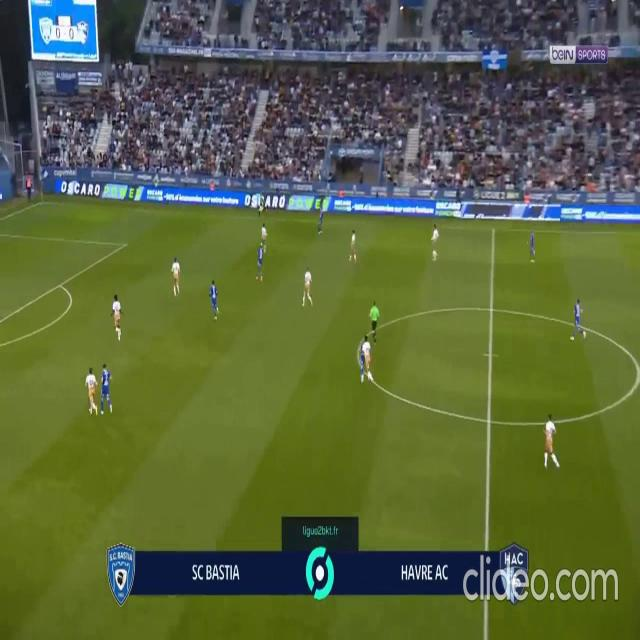ball: (432, 251, 437, 261)
player: (543, 414, 561, 471), (358, 334, 373, 382), (100, 360, 113, 413), (85, 368, 99, 414), (572, 298, 586, 342), (111, 294, 122, 340), (302, 266, 313, 306), (209, 278, 219, 320), (171, 258, 180, 296), (256, 243, 265, 281), (349, 228, 357, 262), (528, 229, 536, 263), (432, 225, 439, 253), (318, 205, 324, 234), (261, 222, 267, 248)
referee: (368, 301, 379, 343), (257, 189, 264, 216)
